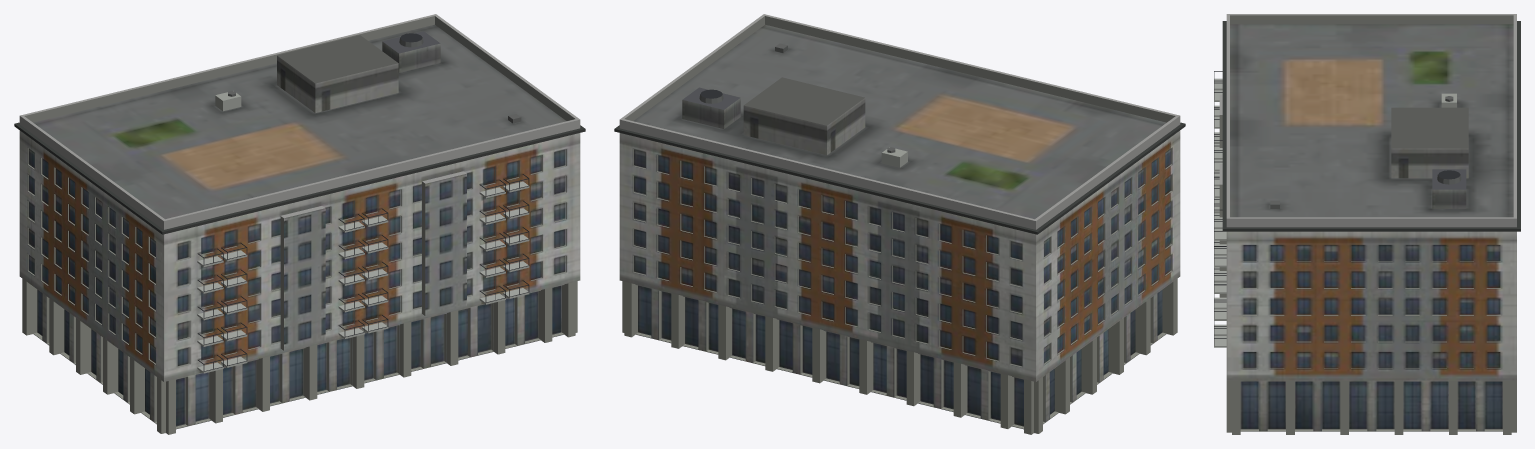
The model's file is seattle_podium_b.glb.
The picture shows the model from 3 angles, left to right: view 1: azimuth 30°, elevation 25°; view 2: azimuth 150°, elevation 25°; view 3: azimuth 270°, elevation 25°; orthographic projection.
Parts seen in each view (by area): view 1: seattle_podium_b; view 2: seattle_podium_b; view 3: seattle_podium_b.
Boxes of the visible parts, x1,y1,x2,y2 form: seattle_podium_b: [14, 14, 585, 434]; seattle_podium_b: [614, 14, 1185, 434]; seattle_podium_b: [1214, 14, 1520, 434].
Bounding box in the file's own units: 50.8 × 27.05 × 31.7.
1 material, 1 textured.
